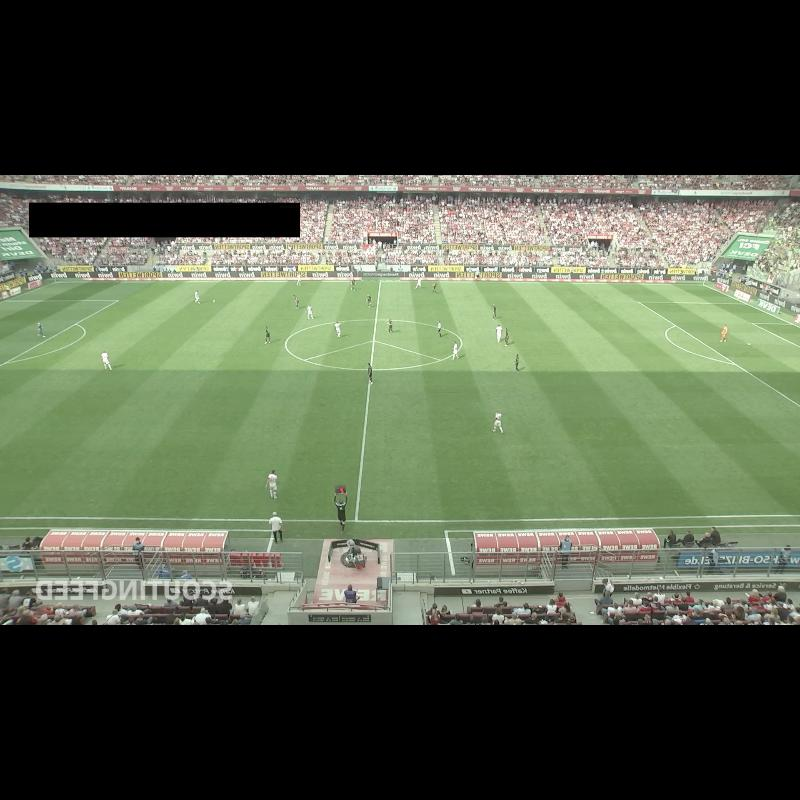cross_recipient_zone: (639, 302, 800, 406), (0, 300, 119, 366)
crossing_player_zone: (684, 412, 800, 516), (7, 281, 221, 300), (541, 283, 744, 303), (0, 411, 48, 451)
pitch: (0, 282, 800, 518)
